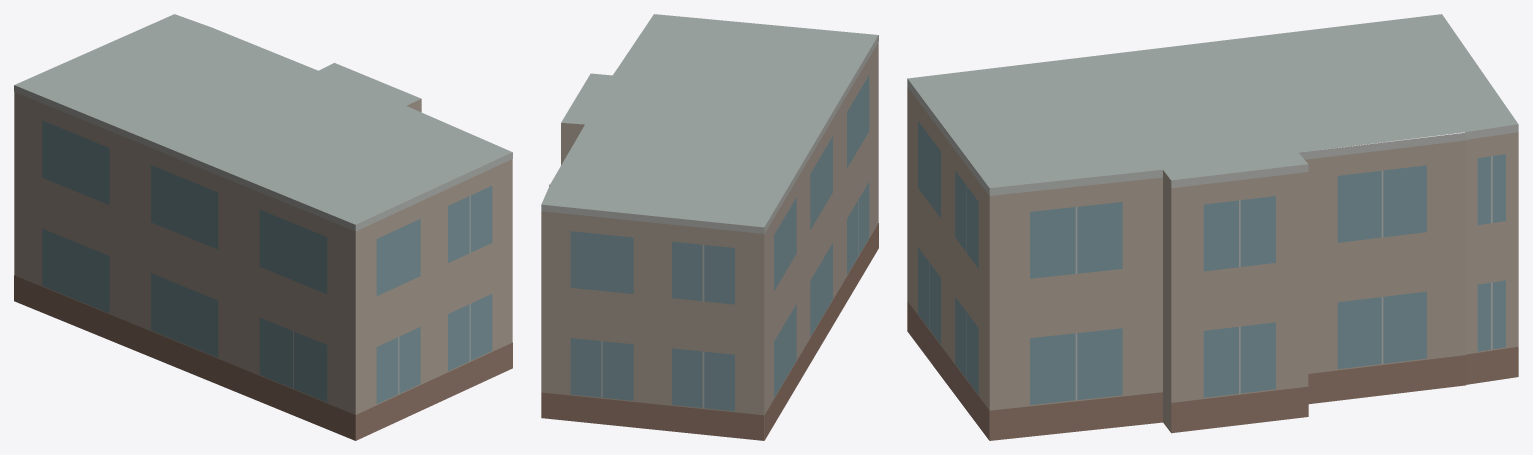
Rendered from survey-upis-32755753.glb.
3 renders of one model, left to right at view 1: azimuth 30°, elevation 25°; view 2: azimuth 150°, elevation 25°; view 3: azimuth 270°, elevation 25°, orthographic. The views are drawn at different scales.
Parts seen in each view (by area): view 1: survey-upis-32755753.tmp; view 2: survey-upis-32755753.tmp; view 3: survey-upis-32755753.tmp.
Part boxes in pixels (x1,y1,x2,y2): survey-upis-32755753.tmp: (14,14,512,440); survey-upis-32755753.tmp: (541,14,878,440); survey-upis-32755753.tmp: (907,14,1518,440).
Bounding box in the file's own units: 11.69 × 7.9 × 17.33.
